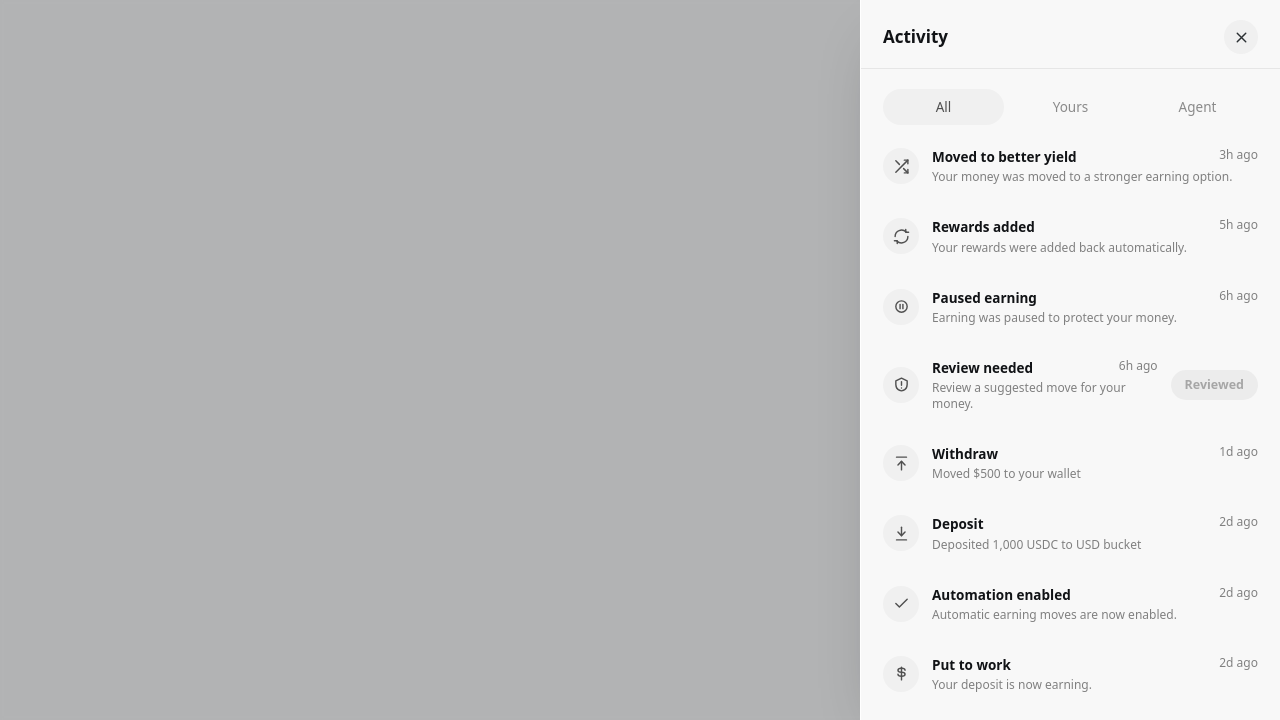
Scenario: tabs filter the list by cat; Yours hides agent rows, Agent hides user rows
Expected: the text "Moved to better yield" is shown, [932,147,1077,167]
Expected: the text "Withdraw" is shown, [932,444,998,464]
Click the button "Yours": click(1070, 107) [1010,89,1131,125]
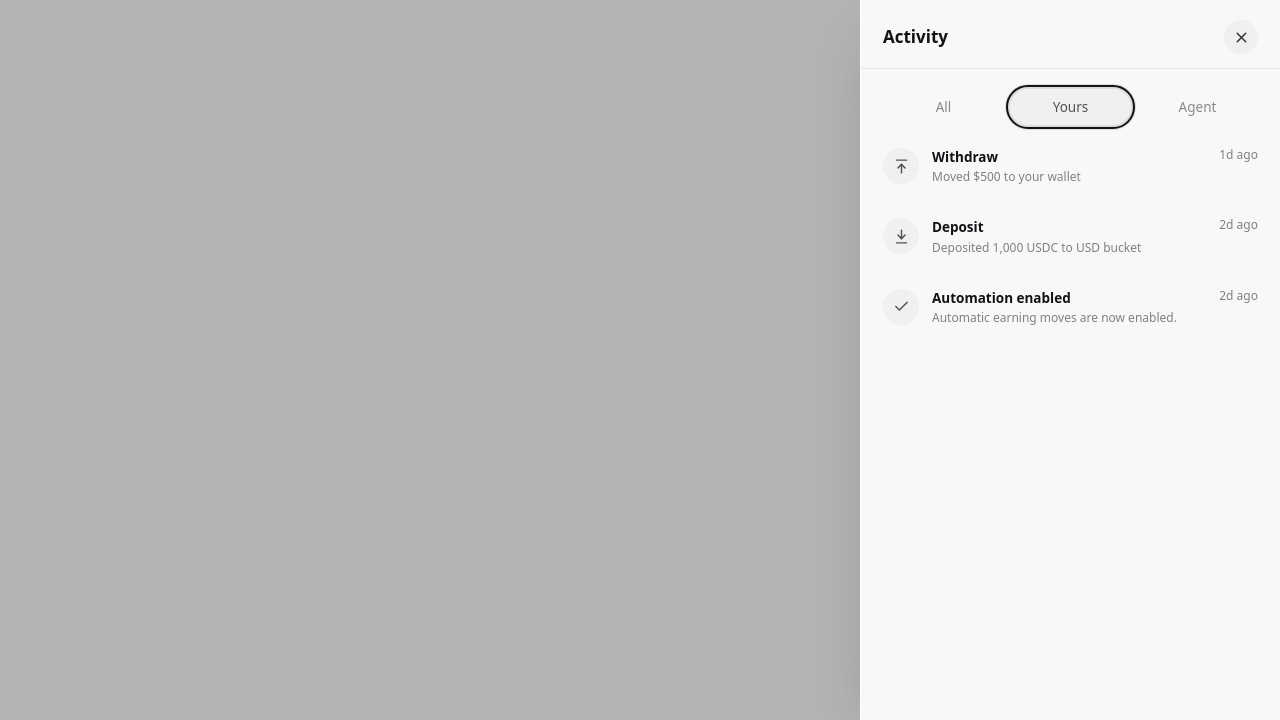
Expected: the text "Withdraw" is shown, [932,147,998,167]
Expected: the text "Moved to better yield" is gone
Click the button "Agent": click(1198, 107) [1137,89,1258,125]
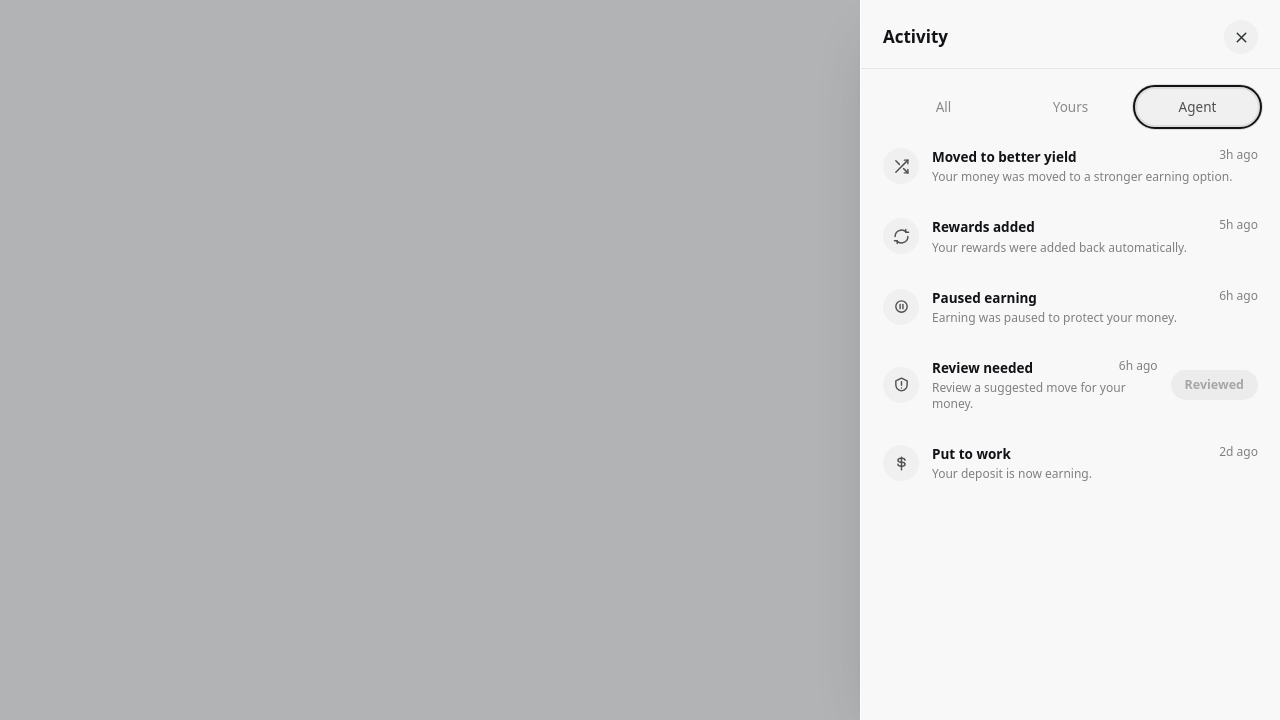
Expected: the text "Moved to better yield" is shown, [932,147,1077,167]
Expected: the text "Withdraw" is gone
